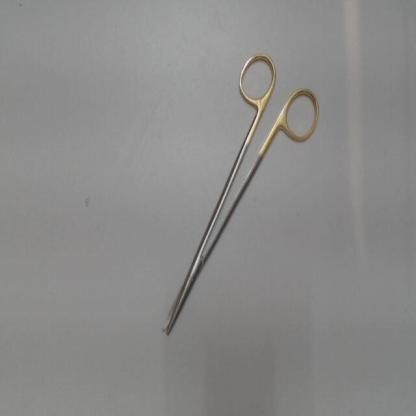7 Metzenbaum Scissors: (160, 47, 324, 336)
